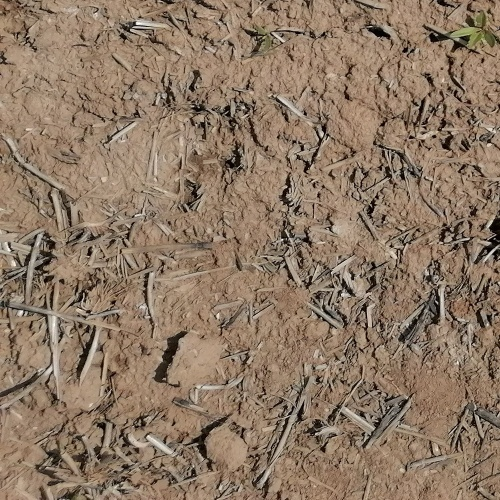beet: (449, 9, 500, 48), (253, 23, 275, 52)
